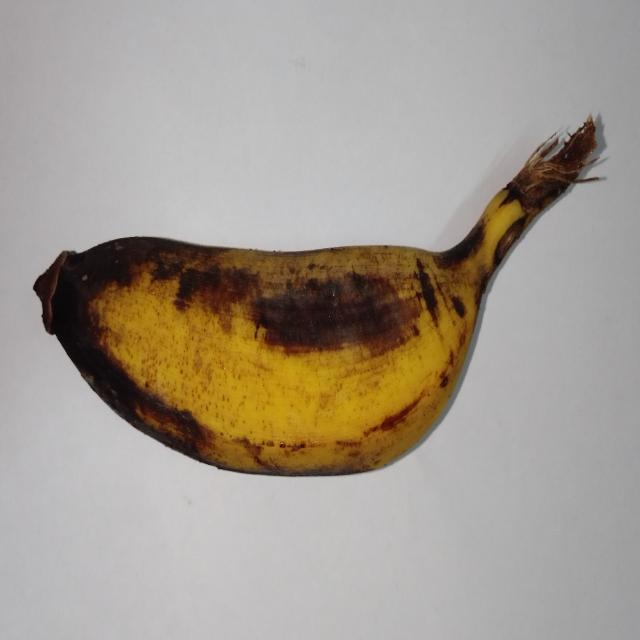banana: (35, 118, 596, 474)
